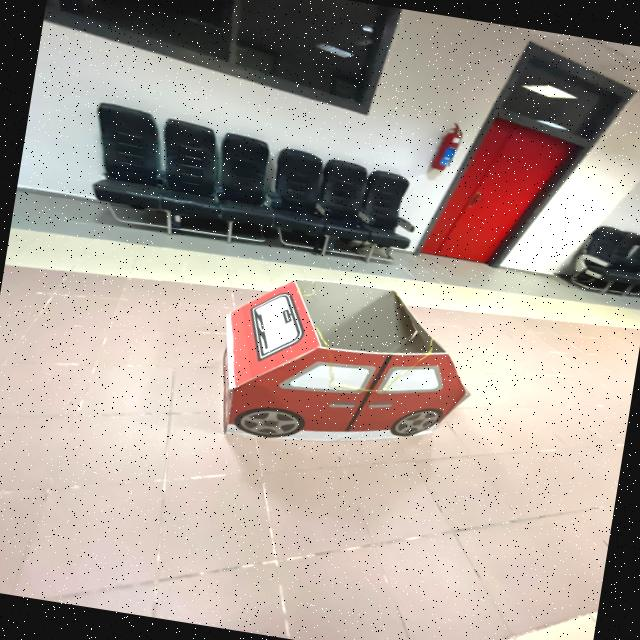red_car: (173, 252, 497, 491)
